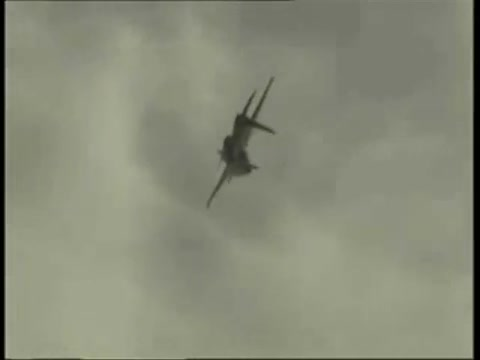aeroplane: (207, 77, 278, 207)
